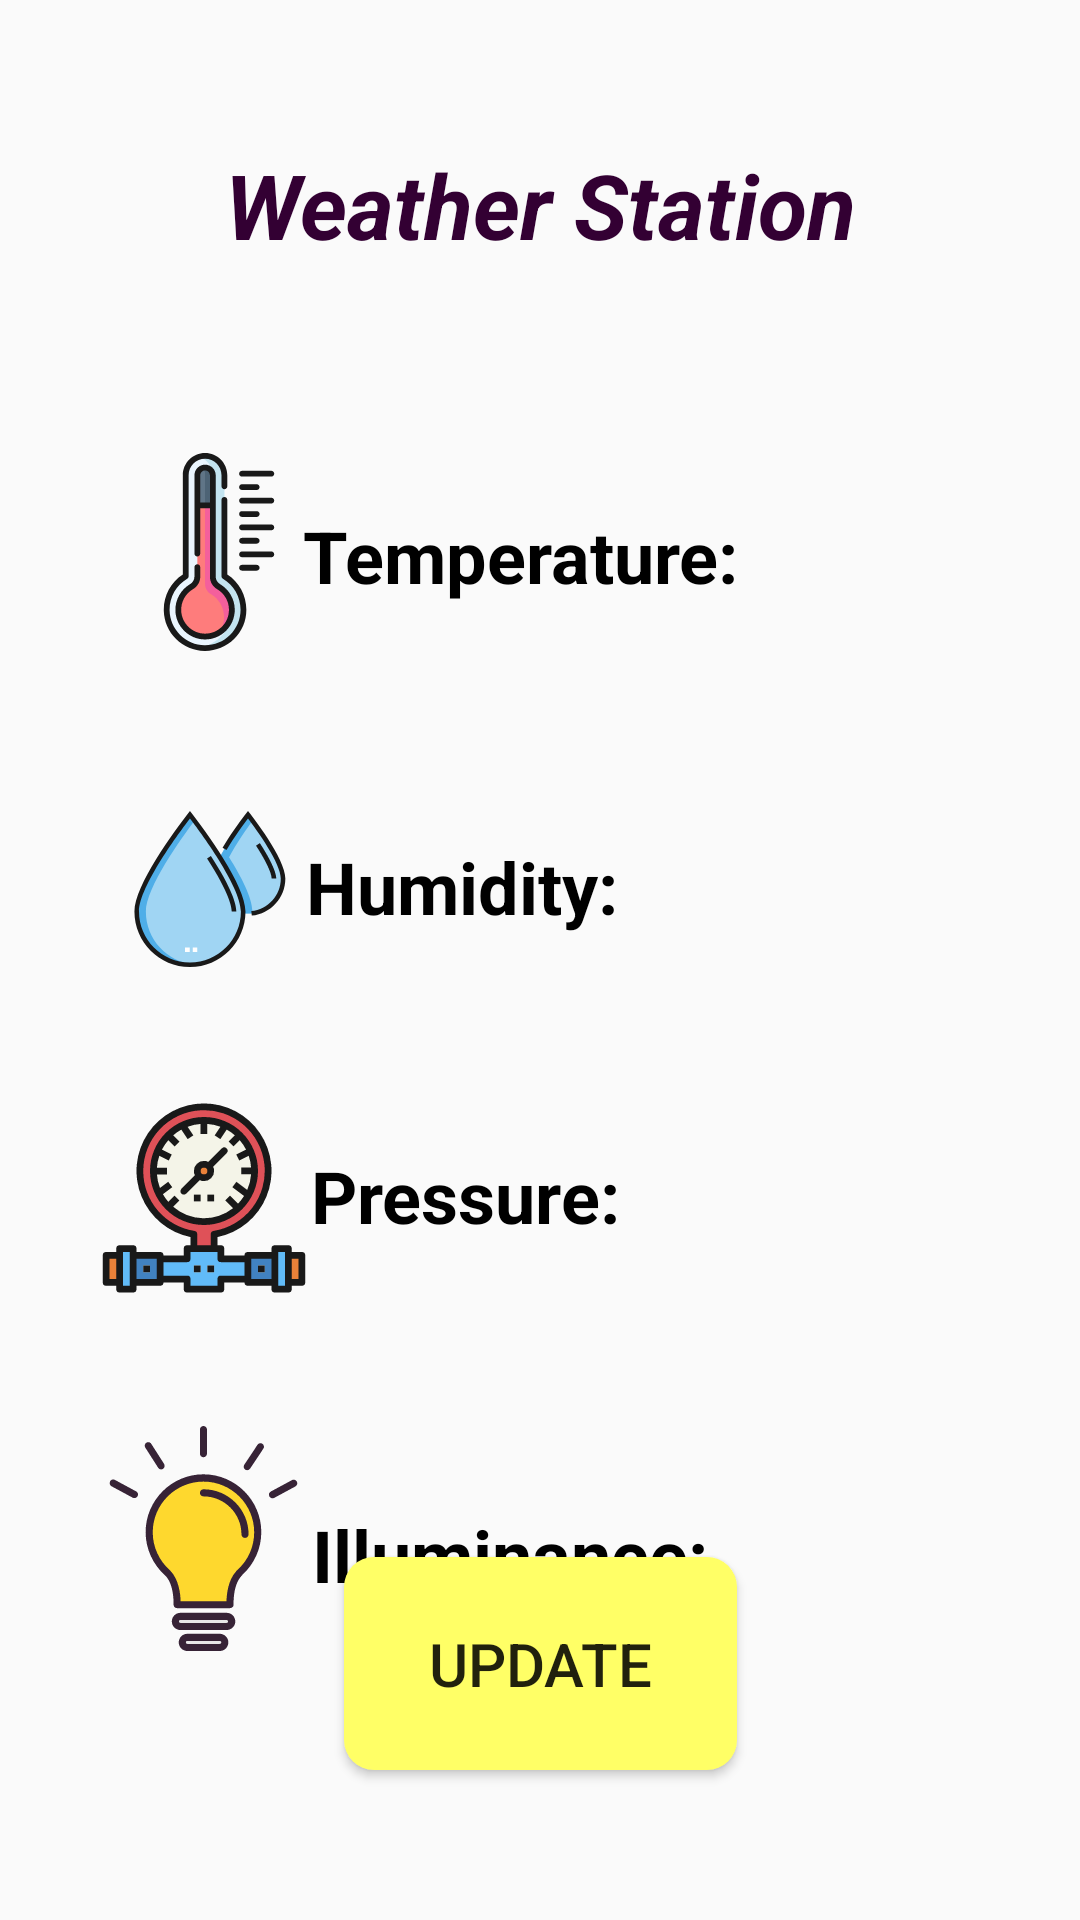

Icon click points for this 1080*1920 phone screenshot, format point (x, y):
lightbulb: point (203, 1538)
thermometer: point (219, 552)
